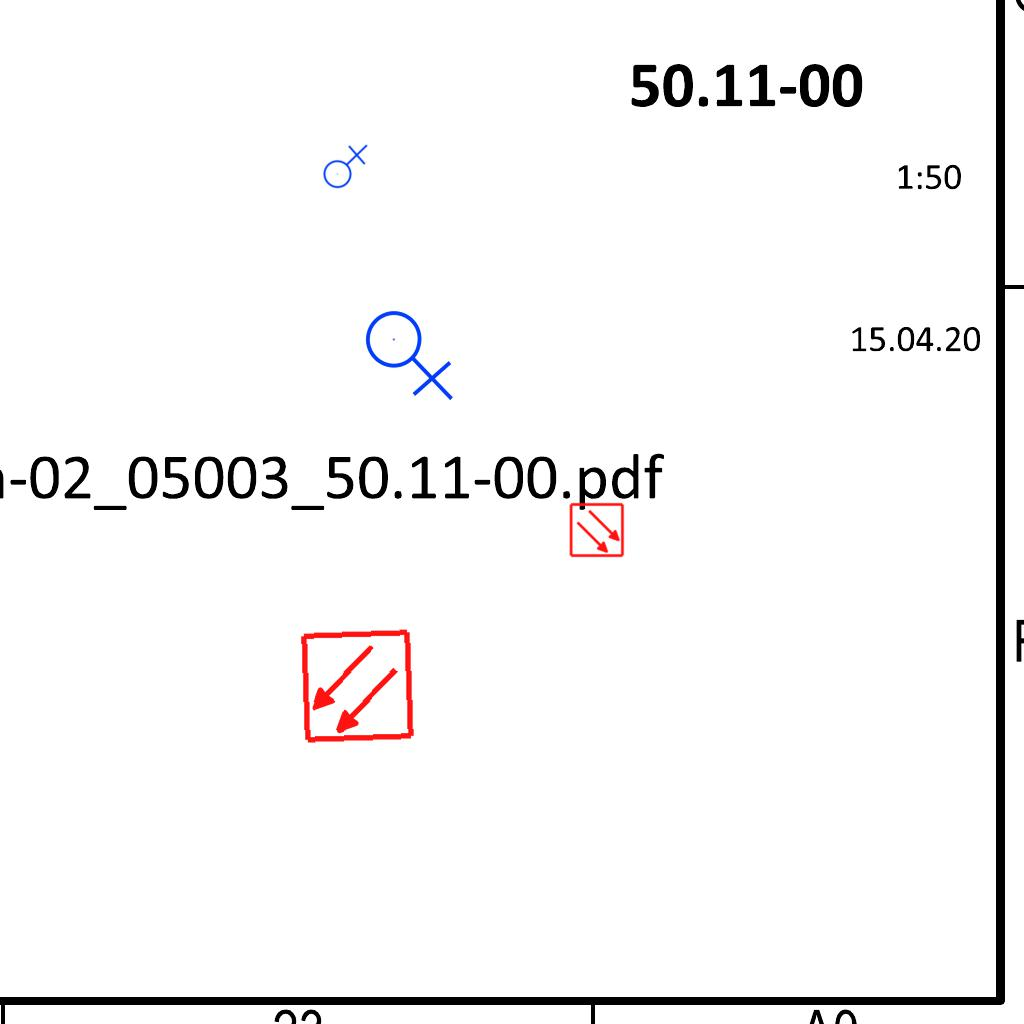Elektroanschluss_allgemein_230V_Geraeteanschlussdose_230V: (364, 302, 458, 401), (319, 142, 368, 189)
RMO_Rauchmelder_optischer: (299, 628, 416, 745), (569, 502, 625, 558)
